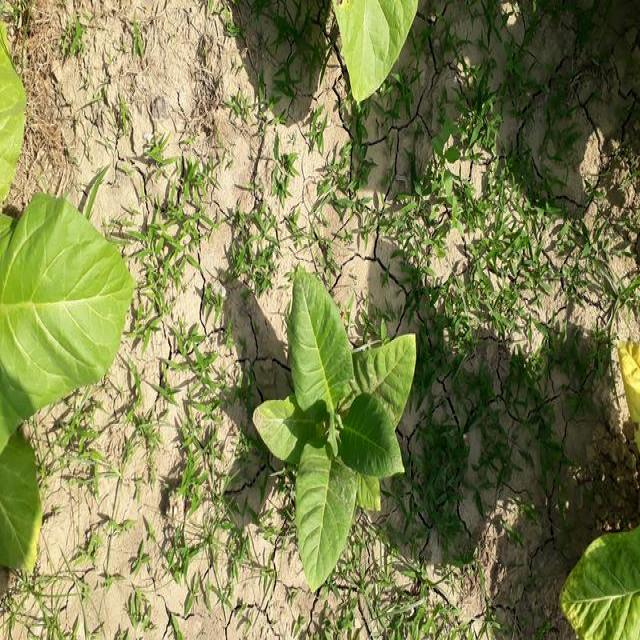crop: (246, 266, 419, 592)
